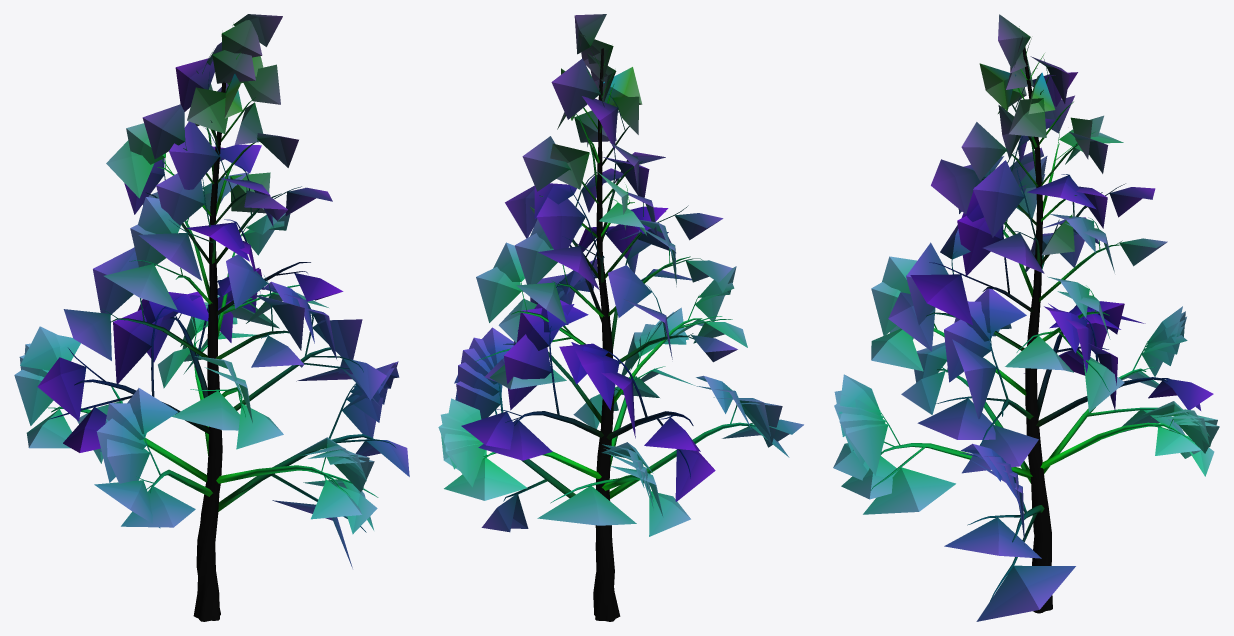
Rendered from EO_BhutanWhitePine.fbx.
The picture shows the model from 3 angles, left to right: view 1: azimuth 30°, elevation 25°; view 2: azimuth 150°, elevation 25°; view 3: azimuth 270°, elevation 25°; orthographic projection. The views are drawn at different scales.
Visible parts, largest first — view 1: Tree_1, Tree_0; view 2: Tree_1, Tree_0; view 3: Tree_1, Tree_0.
Boxes of the visible parts, x1=… form: Tree_1: x1=14, y1=14, x2=409, y2=568; Tree_0: x1=47, y1=25, x2=395, y2=621; Tree_1: x1=438, y1=14, x2=803, y2=536; Tree_0: x1=475, y1=46, x2=755, y2=621; Tree_1: x1=833, y1=14, x2=1219, y2=621; Tree_0: x1=870, y1=26, x2=1194, y2=613.
Bounding box in the file's own units: 35.67 × 62.64 × 36.43.
